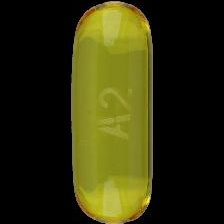66116-487: (0, 0, 224, 224)
